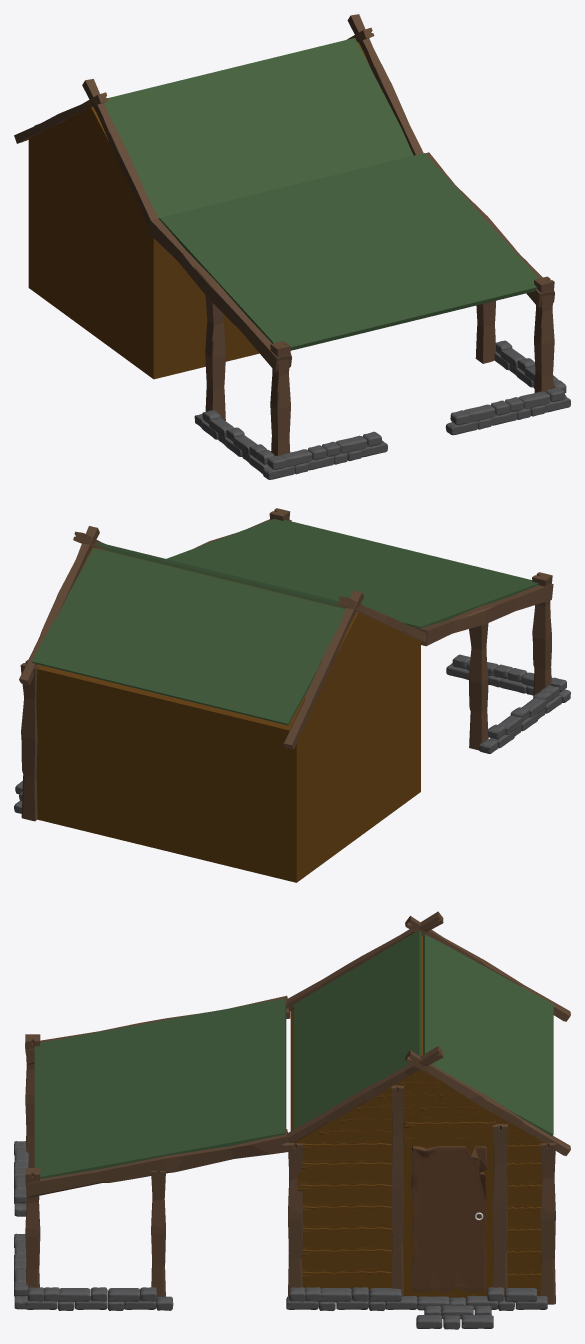
The model's file is house.fbx.
3 views of the same model, one above another, from view 1: azimuth 30°, elevation 25°; view 2: azimuth 150°, elevation 25°; view 3: azimuth 270°, elevation 25° (orthographic). The views are drawn at different scales.
Visible parts, largest first — view 1: Cube.039, Cube.040, Cube, Cube.036, Cube.029, Cube.117, Cube.037, Cube.038, Cube.030, Cube.079, Cube.035; view 2: Cube, Cube.041, Cube.039, Cube.029, Cube.036, Cube.117, Cube.033, Cube.038, Cube.030, Cube.040; view 3: Cube.039, Cube.041, Cube.040, Cube.013, Cube, Cube.035, Cube.030, Cube.029, Cube.031, Cube.032, Cube.033, Cube.034 (+23 smaller).
Boxes of the visible parts, x1,y1,x2,y2 form: Cube.039: (159,153,539,350); Cube.040: (104,38,413,217); Cube: (28,42,370,379); Cube.036: (149,218,291,371); Cube.029: (14,79,158,237); Cube.117: (205,295,225,420); Cube.037: (534,276,554,392); Cube.038: (270,341,290,455); Cube.030: (347,14,423,155); Cube.079: (475,301,496,363); Cube.035: (425,152,554,307); Cube: (36,547,420,882); Cube.041: (32,548,345,725); Cube.039: (166,519,538,628); Cube.029: (283,590,430,749); Cube.036: (412,584,553,646); Cube.117: (468,623,488,750); Cube.033: (20,659,39,821); Cube.038: (532,572,552,698); Cube.030: (19,526,109,685); Cube.040: (96,542,345,608); Cube.039: (34,998,286,1178); Cube.041: (423,934,553,1136); Cube.040: (294,930,421,1129); Cube.013: (411,1146,487,1292); Cube: (290,936,547,1302); Cube.035: (25,1129,288,1197); Cube.030: (286,1046,570,1155); Cube.029: (287,911,570,1021); Cube.031: (391,1085,403,1296); Cube.032: (492,1124,507,1296); Cube.033: (540,1142,555,1304); Cube.034: (288,1142,303,1296).
Size of the model in its own units: 1403 by 1033 by 1986.
